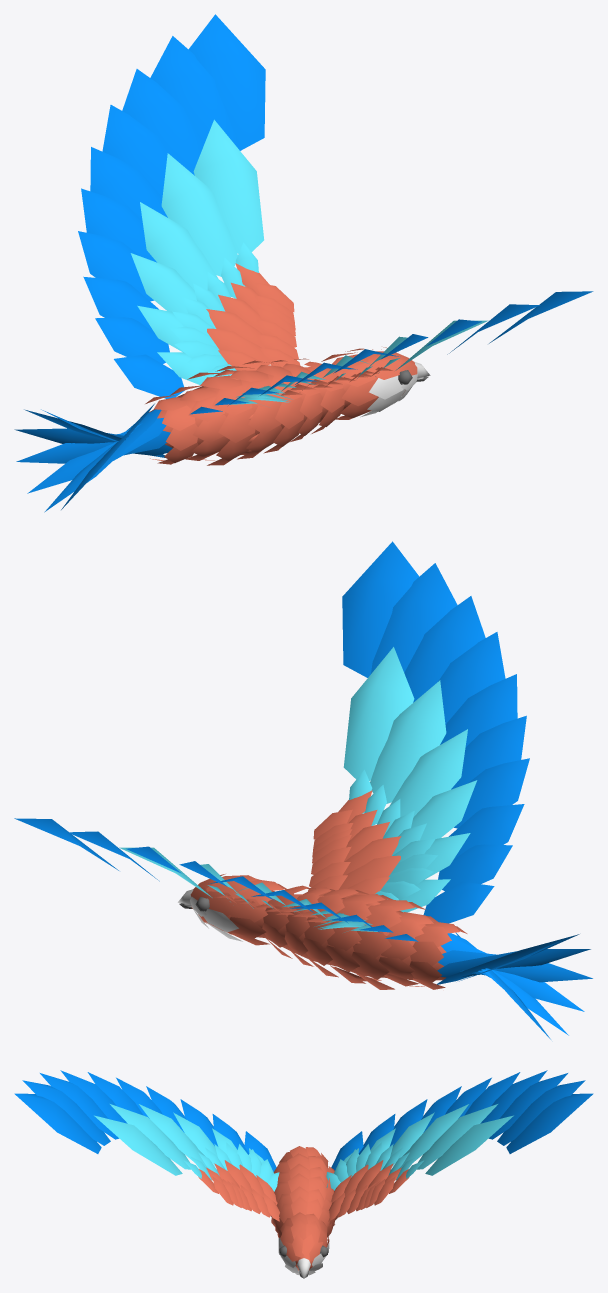
The model's file is dpl7B31PqWX.glb.
3 renders of one model, top to bottom at view 1: azimuth 30°, elevation 25°; view 2: azimuth 150°, elevation 25°; view 3: azimuth 270°, elevation 25°, orthographic. The views are drawn at different scales.
Parts seen in each view (by area): view 1: Parrot.3; view 2: Parrot.3; view 3: Parrot.3.
Part boxes in pixels (x1,y1,x2,y2): Parrot.3: [14, 14, 593, 512]; Parrot.3: [14, 541, 592, 1039]; Parrot.3: [14, 1070, 593, 1278].
Bounding box in the file's own units: 1.51 × 0.9999 × 2.55.
